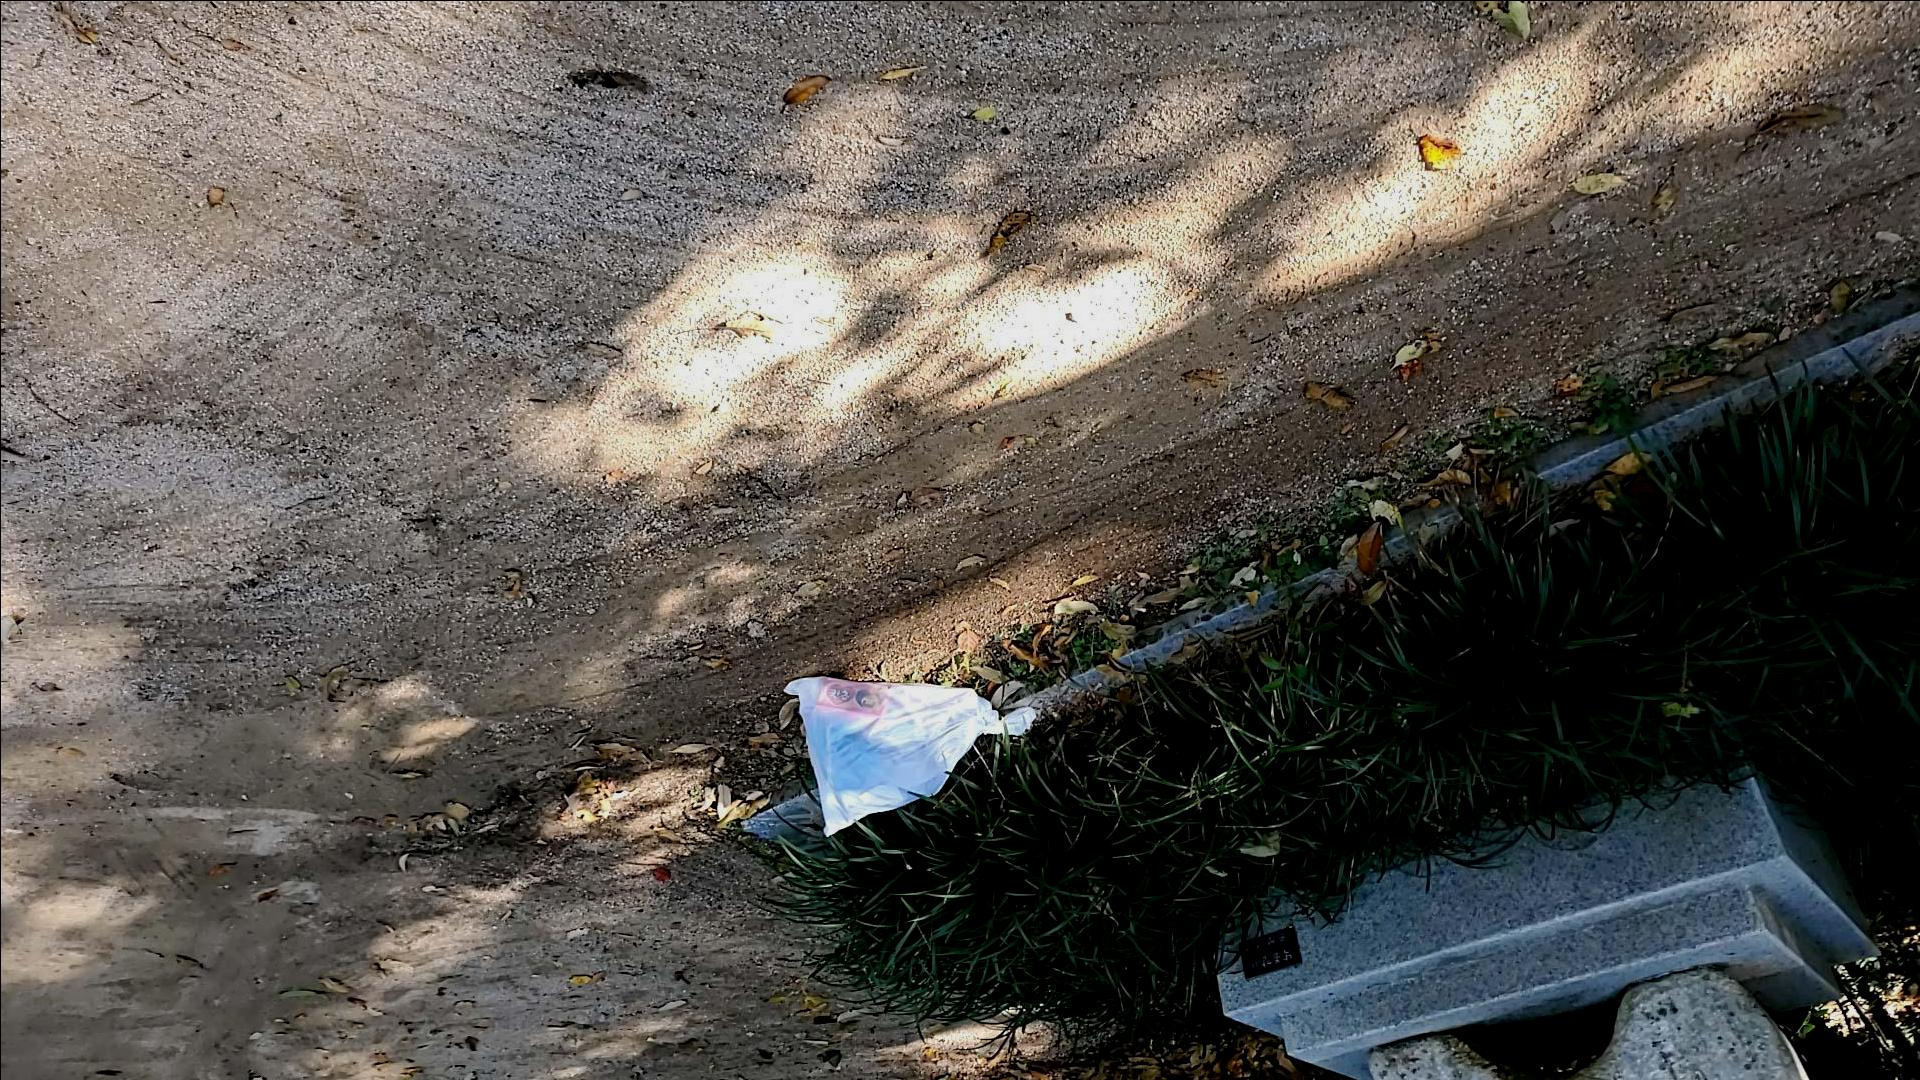white_bag: (770, 662, 1064, 840)
